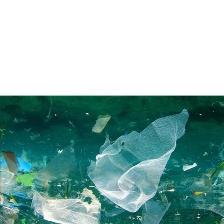plastic_bag: (83, 105, 192, 213), (25, 188, 105, 224), (31, 140, 78, 185), (139, 197, 173, 224)
